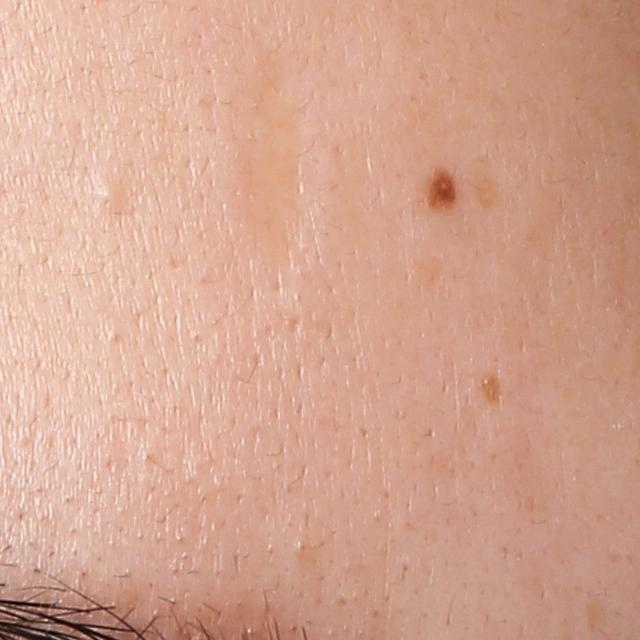comedo: (87, 176, 123, 212)
melasma: (482, 369, 504, 403)
nevus: (421, 162, 462, 216)
other: (221, 51, 324, 284)
